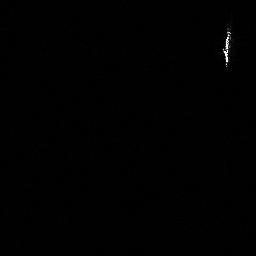ship: (218, 26, 235, 68)
